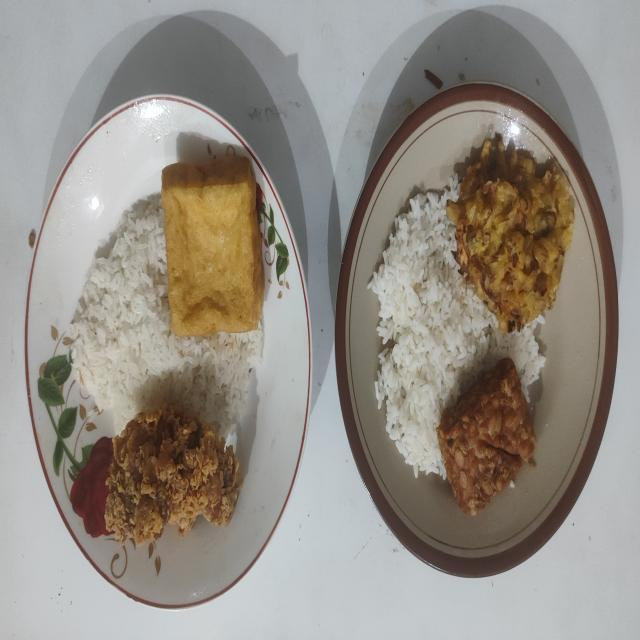nasi_putih: (368, 173, 546, 480), (70, 193, 264, 438)
tahu_goreng: (162, 154, 264, 336)
tempe_goreng: (436, 358, 536, 515)
